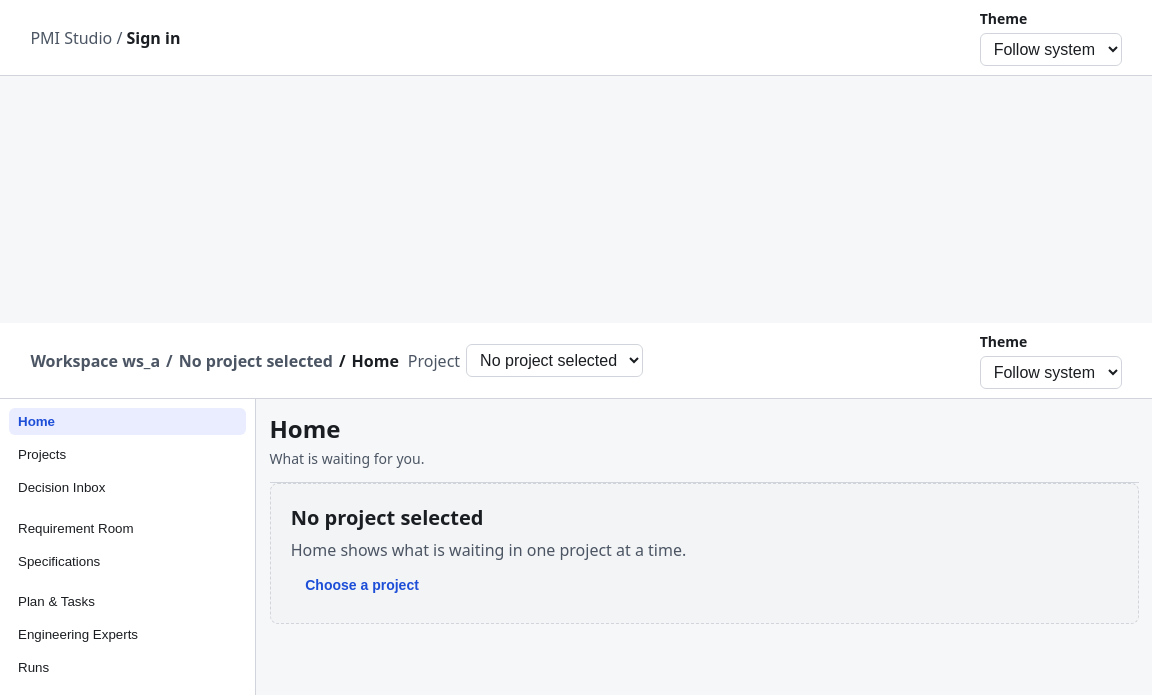
T439g · the four states are distinguishable › renders a failed section as an error, with a way forward
(page scrolled)
Select "Payments" in the dropdown labelled "Project": (555, 360) [466,344,643,377]
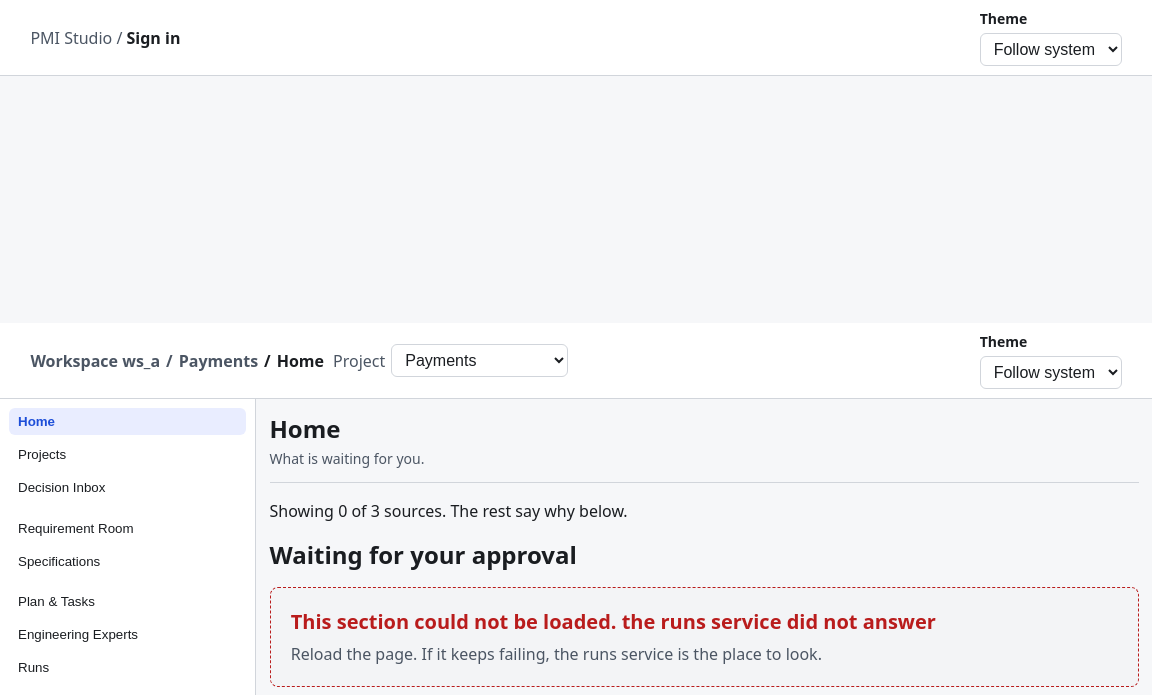
Check: the 2nd message is shown, box [270,587,1138,687]
Check: the text "did not answer" is shown, box [291,608,936,635]
